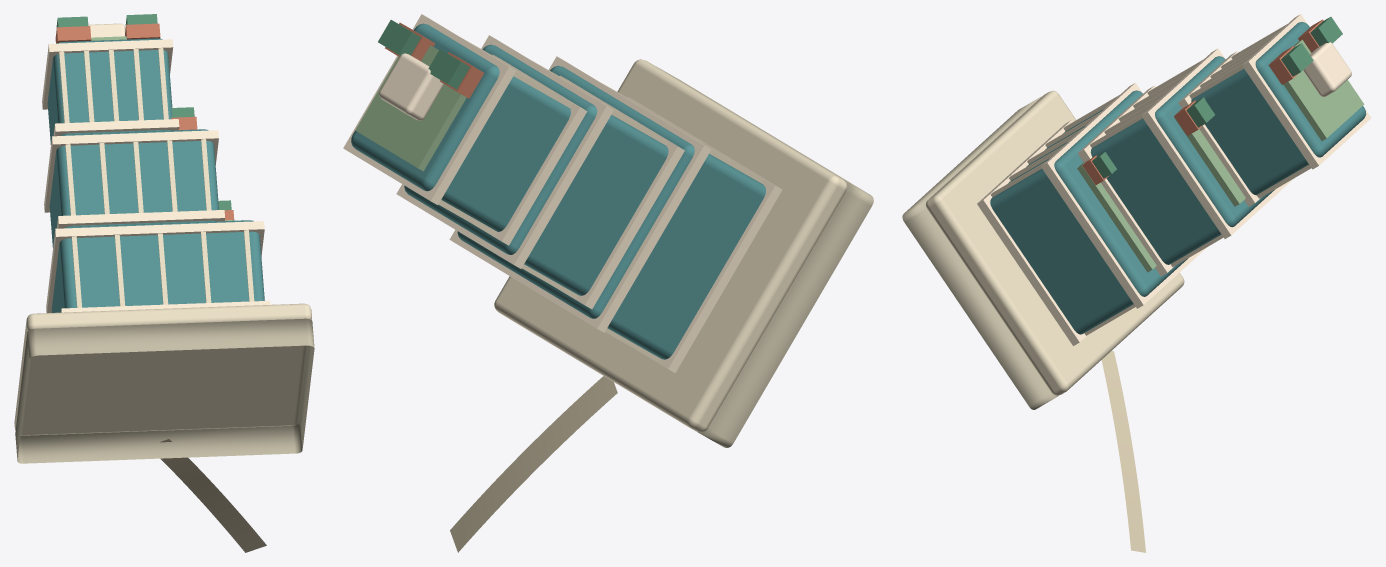
Rendered from skyline.glb.
3 renders of one model, left to right at view 1: azimuth 30°, elevation 25°; view 2: azimuth 150°, elevation 25°; view 3: azimuth 270°, elevation 25°, orthographic. The views are drawn at different scales.
Visible parts, largest first — view 1: skyline (×7); view 2: skyline (×8); view 3: skyline (×8).
Boxes of the visible parts, x1,y1,x2,y2 form: skyline (×7): (14, 14, 314, 552); skyline (×8): (343, 14, 873, 552); skyline (×8): (902, 14, 1371, 552).
Bounding box in the file's own units: 0.3585 × 0.5778 × 0.5012.
